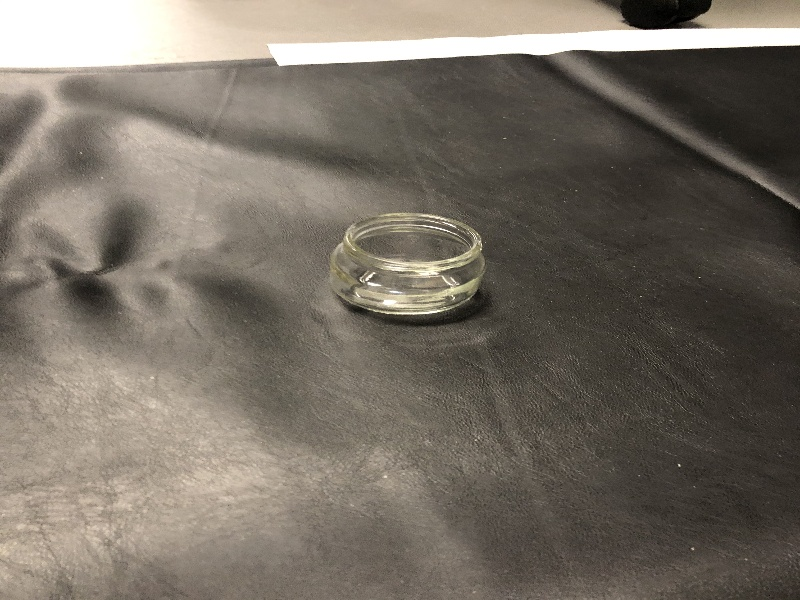glass: (318, 200, 502, 324)
